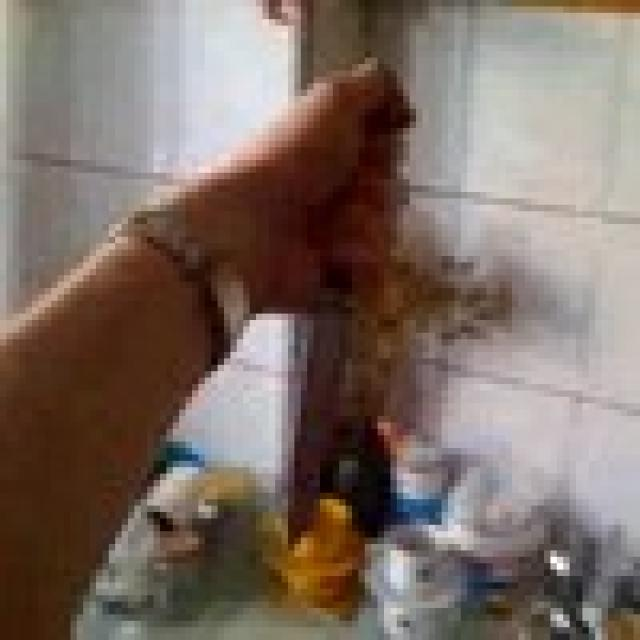Weapons: (273, 266, 375, 558)
